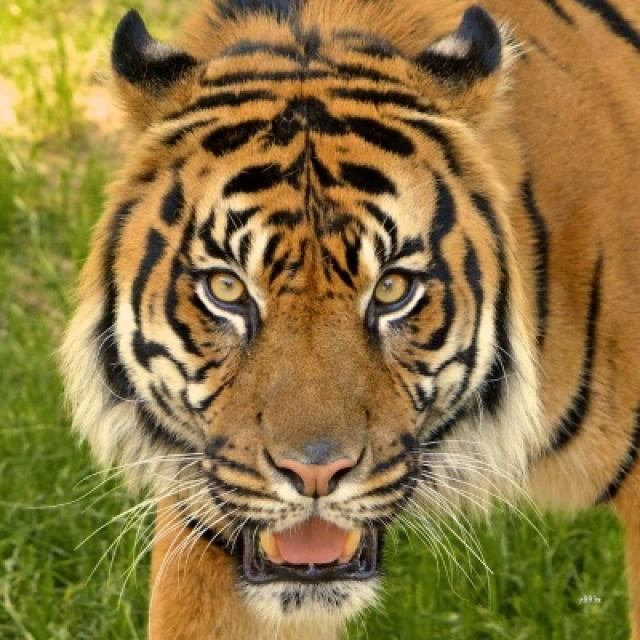Tiger: (48, 36, 528, 610)
